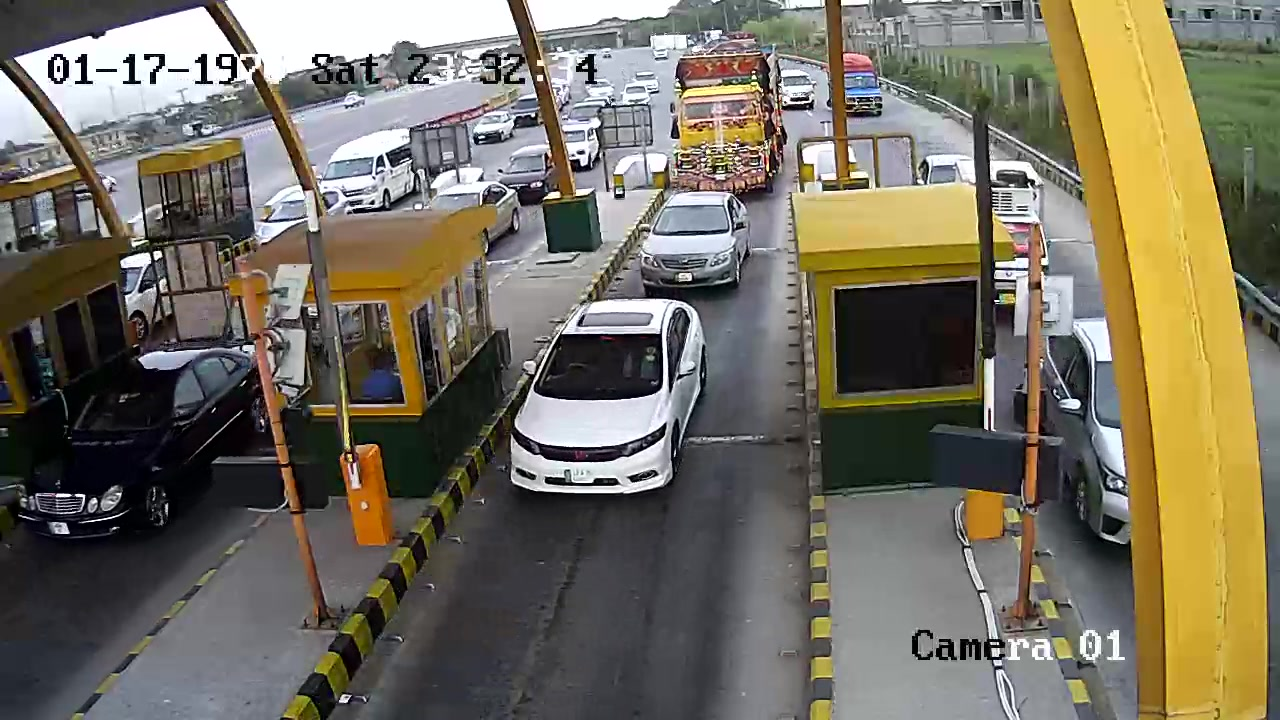F1: (505, 290, 716, 512)
